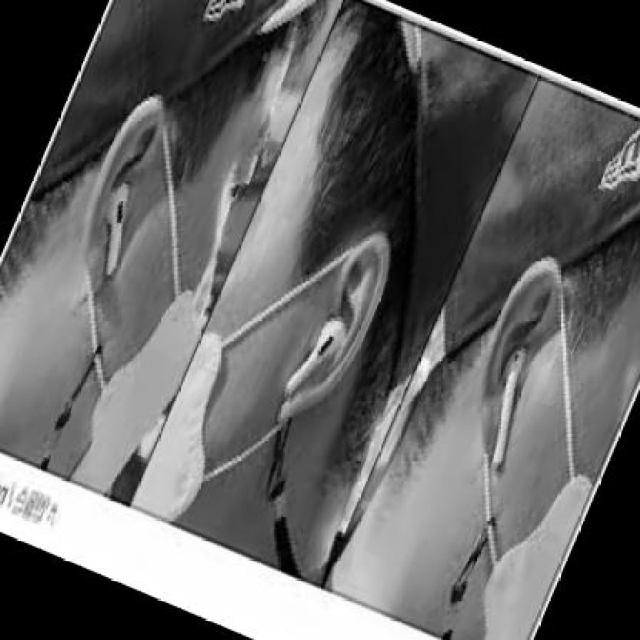earphone: (290, 304, 350, 409), (101, 176, 142, 289), (487, 332, 523, 459)
